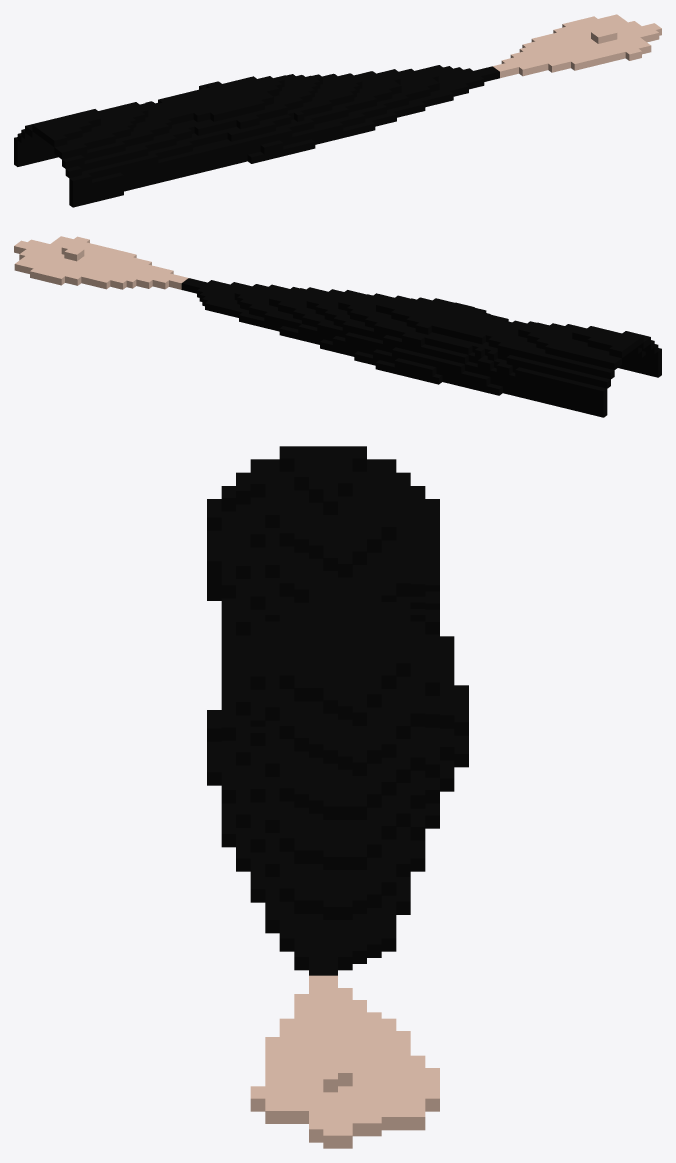
Rendered from kun-4.obj.
The picture shows the model from 3 angles, top to bottom: view 1: azimuth 30°, elevation 25°; view 2: azimuth 150°, elevation 25°; view 3: azimuth 270°, elevation 25°; orthographic projection. The views are drawn at different scales.
Size of the model in its own units: 9.7 by 0.8 by 1.8.
1 material, 1 textured.
